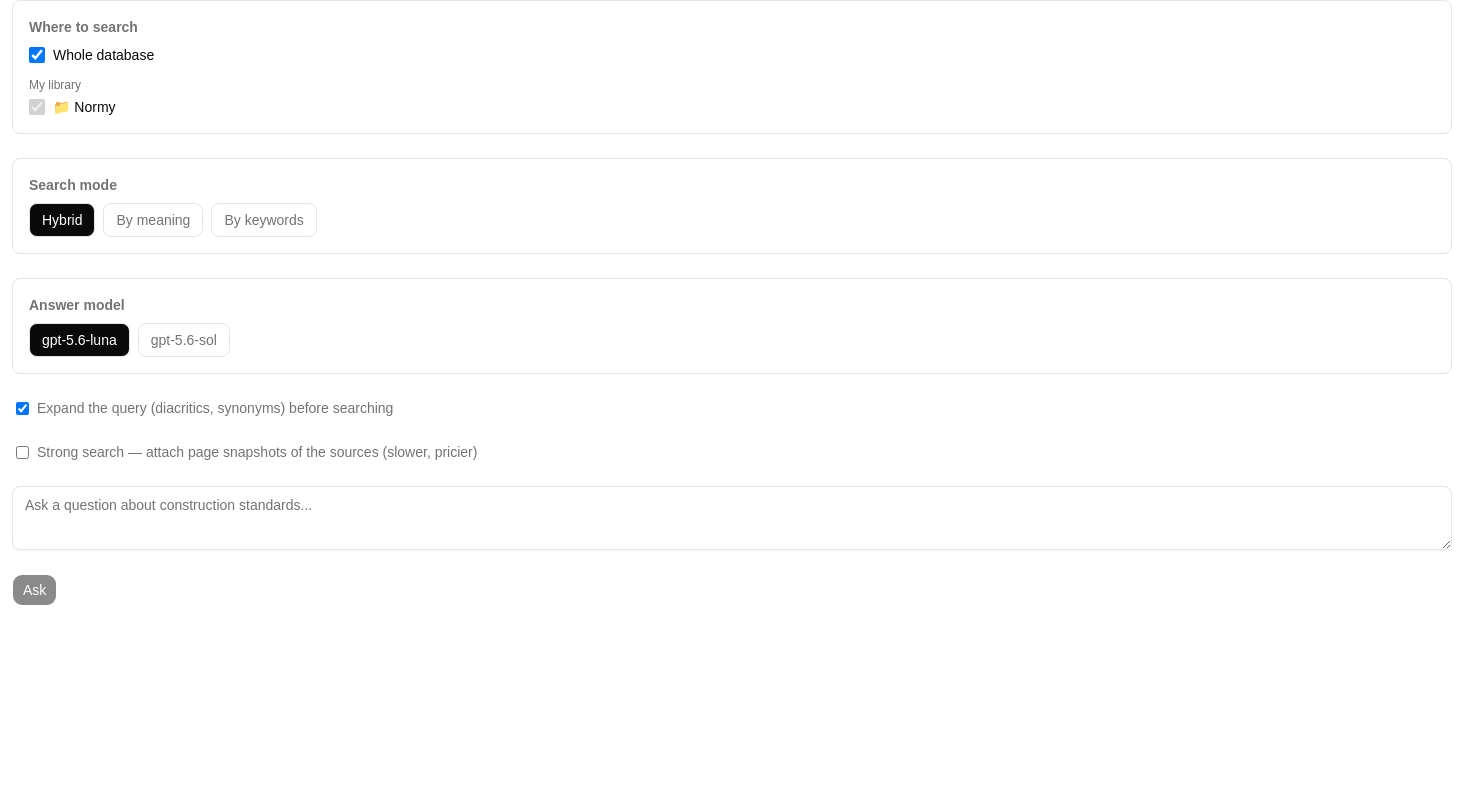
Test: search page › shows the answer and its sources
Expected: the text "Whole database" is shown, [53,45,154,65]
Type "kryti?" into the text box with placeholder "Ask a question about construction standards..." at point(732, 518), box [12,486,1452,550]
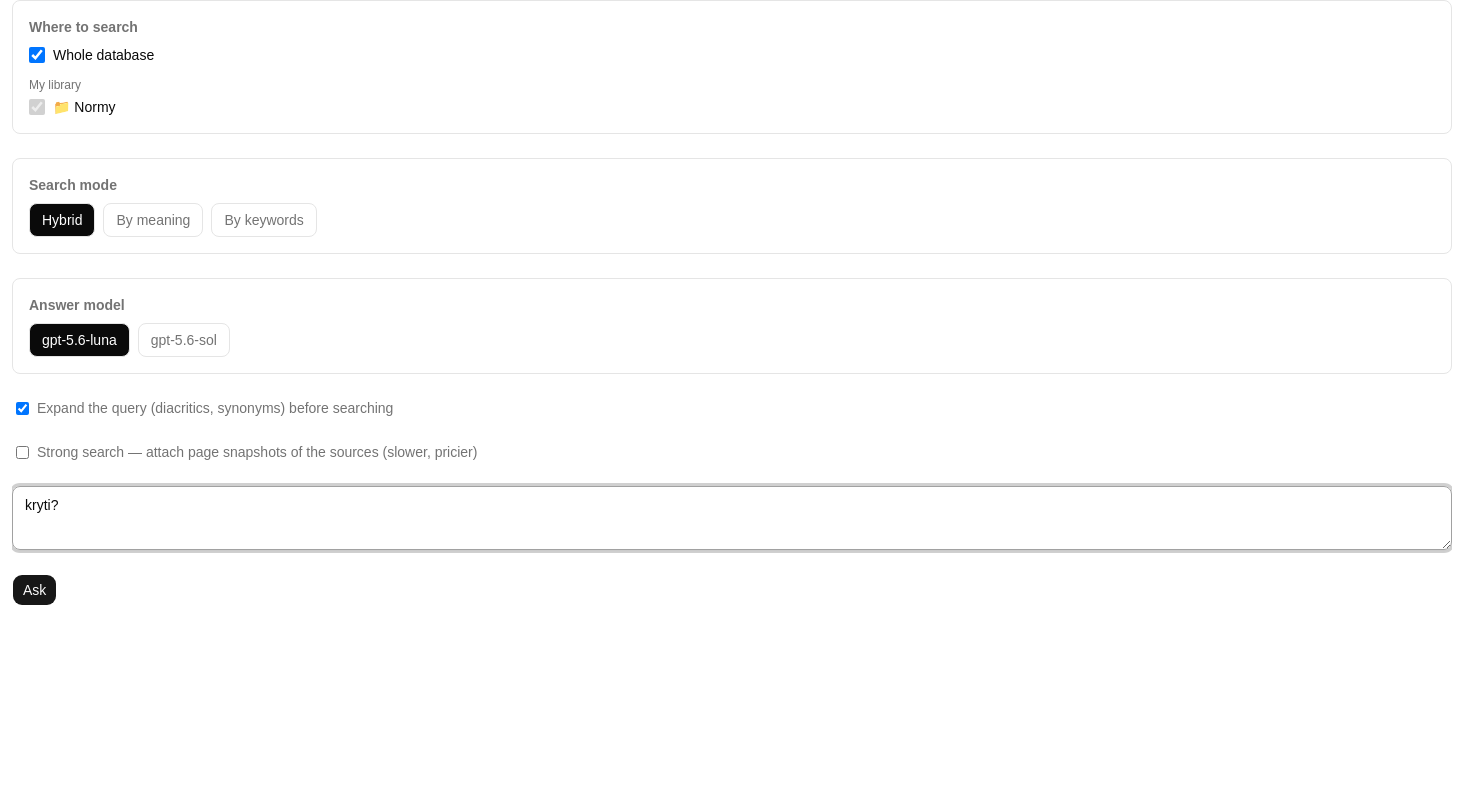
Click the button "Ask" at point(35, 590), box [12,574,57,606]
(page scrolled)
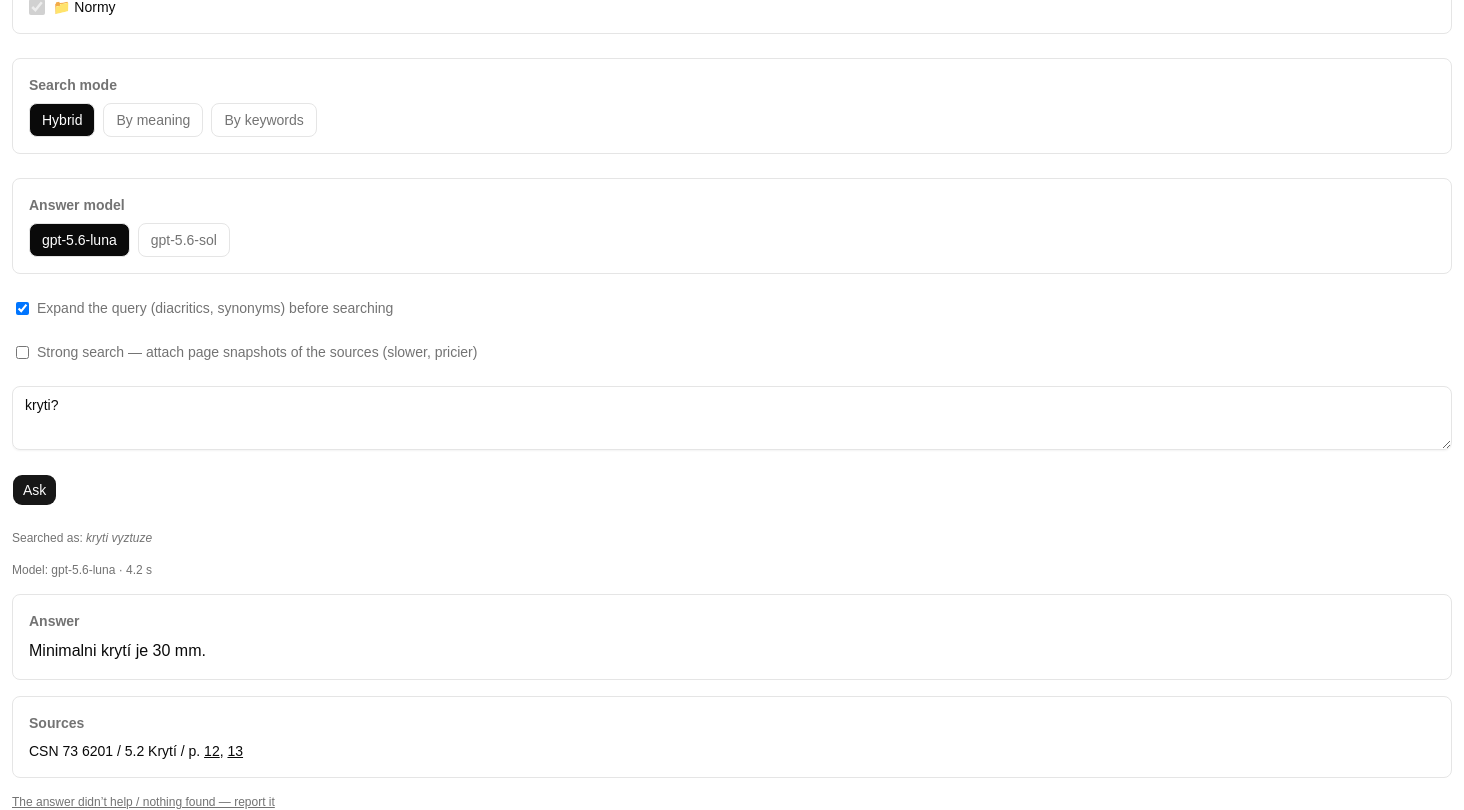
Now the text "Minimalni krytí je 30 mm." is shown, box [29,642,206,659]
